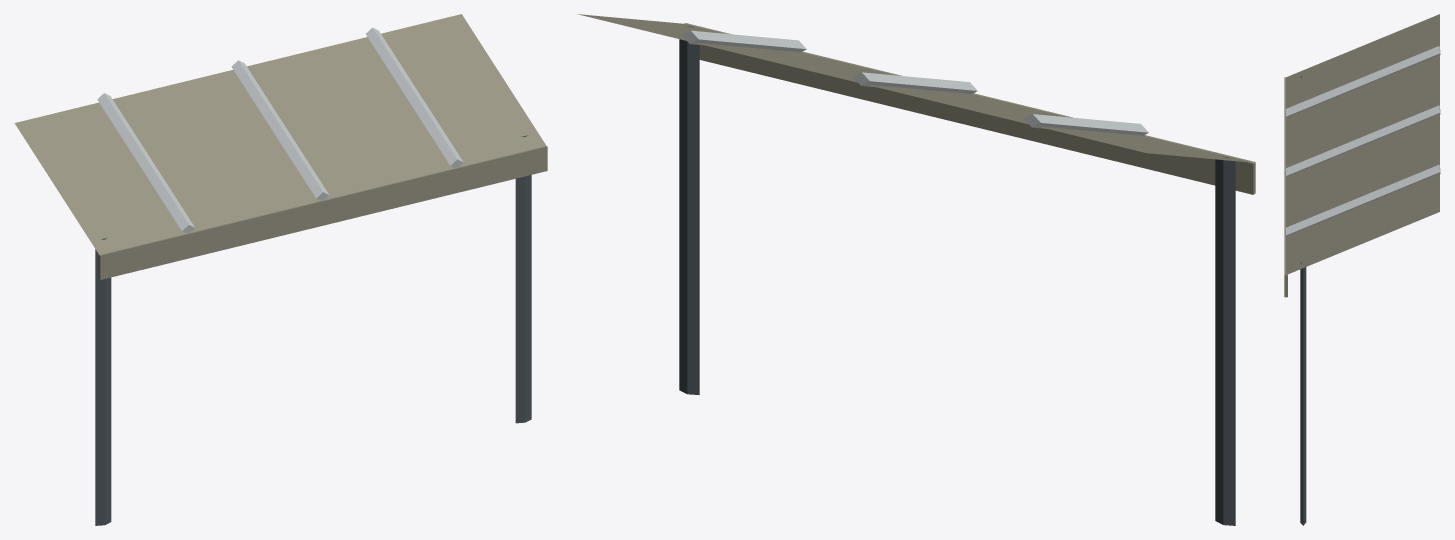
Rendered from shop_awning.glb.
3 views of the same model, side by side, from view 1: azimuth 30°, elevation 25°; view 2: azimuth 150°, elevation 25°; view 3: azimuth 270°, elevation 25° (orthographic). The views are drawn at different scales.
Visible parts, largest first — view 1: shop_awning; view 2: shop_awning; view 3: shop_awning.
Part boxes in pixels (x1,y1,x2,y2): shop_awning: (14,14,547,525); shop_awning: (577,14,1255,525); shop_awning: (1284,14,1440,525).
Size of the model in its own units: 2.88 by 2.2 by 0.96.
